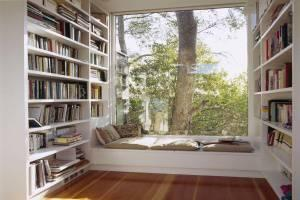window: (109, 4, 252, 139)
